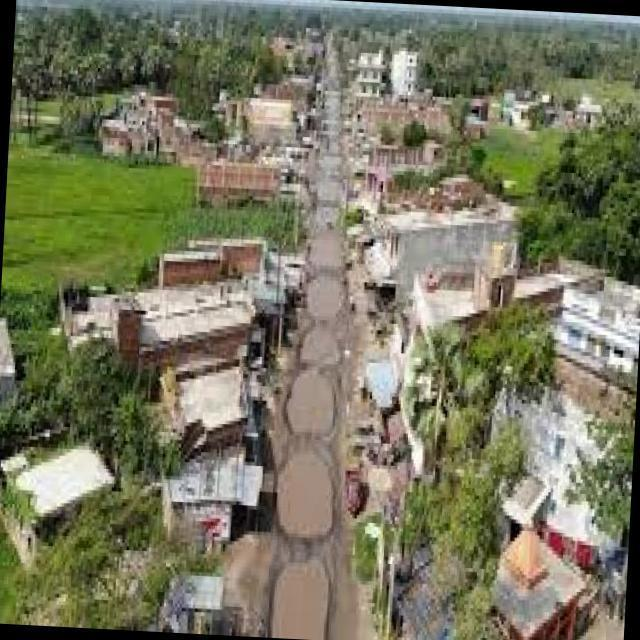pothole: (279, 452, 332, 537), (271, 562, 329, 639), (288, 370, 334, 433), (308, 275, 341, 320), (300, 328, 339, 366), (311, 230, 342, 271), (325, 90, 341, 157), (316, 208, 337, 231), (318, 182, 341, 203), (320, 156, 341, 172)
